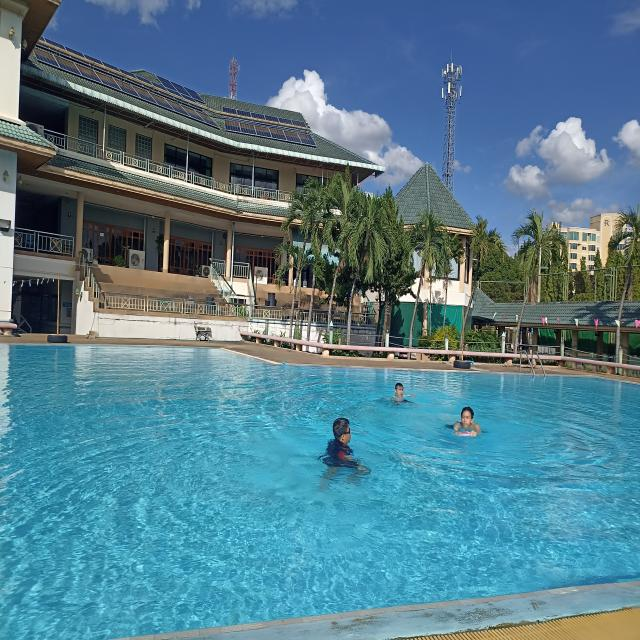Swimming: (318, 416, 372, 481), (445, 406, 483, 446), (388, 377, 421, 416)
